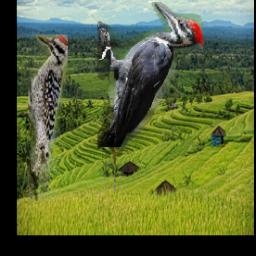Woodpecker: (97, 2, 203, 147), (29, 34, 69, 201)
